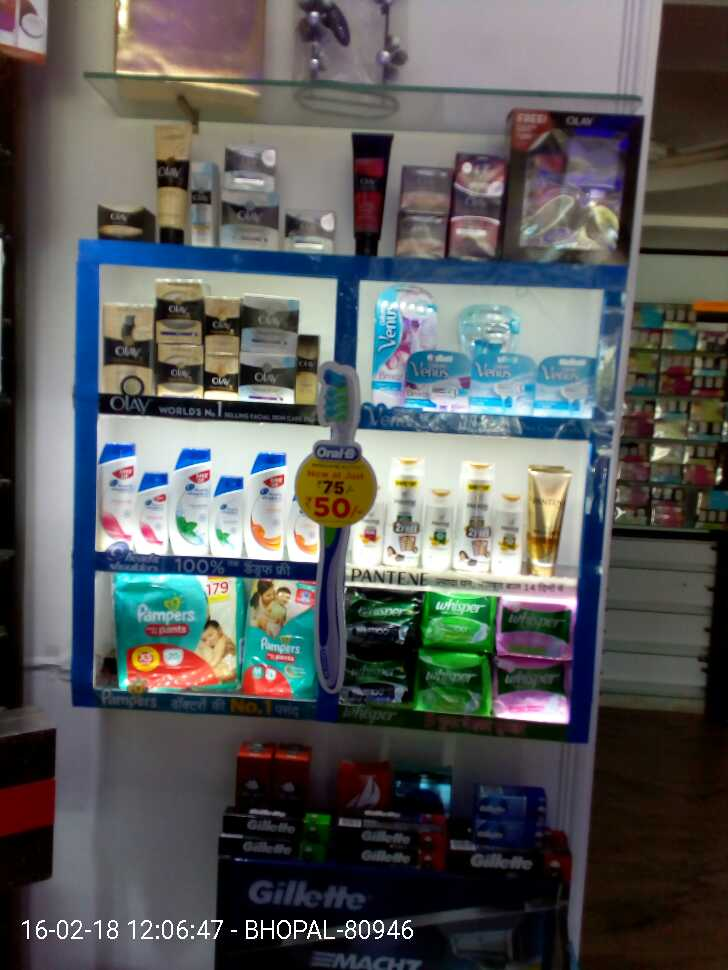gillete: (449, 842, 569, 882), (219, 834, 333, 866), (335, 813, 440, 844), (219, 807, 333, 834), (478, 788, 544, 821), (337, 846, 440, 866), (476, 821, 545, 839)
venus: (371, 288, 405, 405), (472, 353, 535, 416), (535, 354, 598, 416), (405, 353, 472, 409), (459, 304, 523, 349)
